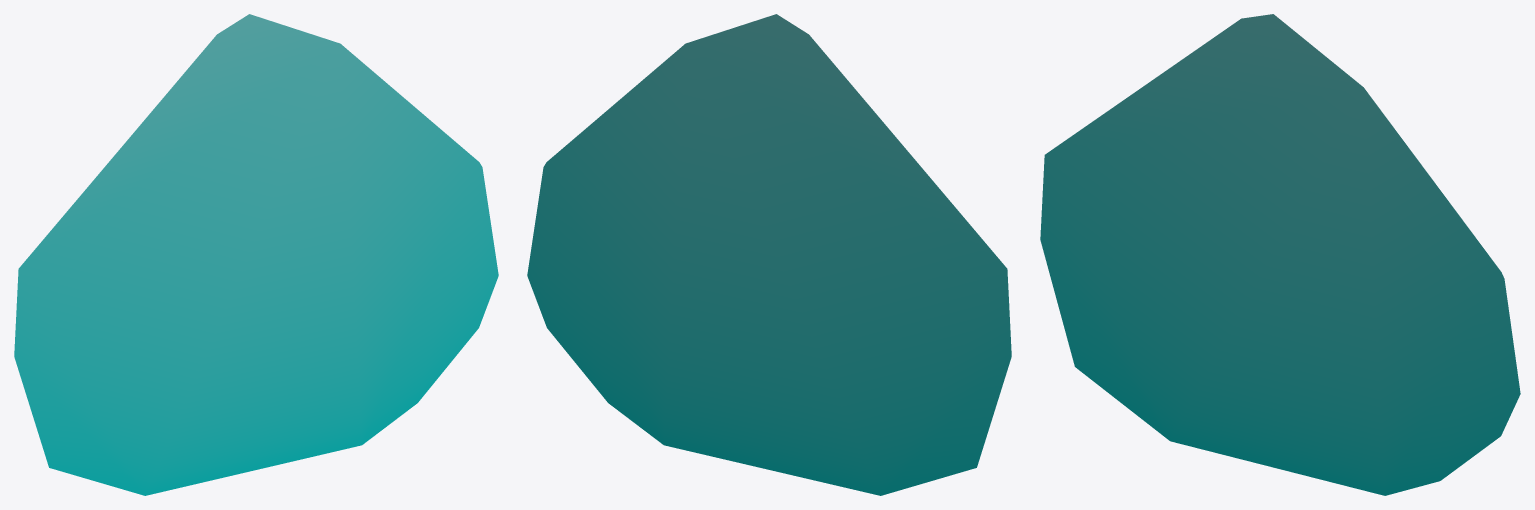
The model's file is Bigleaf_Hydrangea_vgztealha_Mid_vgztealha_VarC_LOD3.fbx.
The picture shows the model from 3 angles, left to right: view 1: azimuth 30°, elevation 25°; view 2: azimuth 150°, elevation 25°; view 3: azimuth 330°, elevation 25°; orthographic projection.
Visible parts, largest first — view 1: _ute8_VarC_LOD5; view 2: _ute8_VarC_LOD5; view 3: _ute8_VarC_LOD5.
Boxes of the visible parts, <box> form: _ute8_VarC_LOD5: <box>14,14,498,495</box>; _ute8_VarC_LOD5: <box>527,14,1011,495</box>; _ute8_VarC_LOD5: <box>1040,14,1520,495</box>.
Size of the model in its own units: 153 by 138 by 0.
